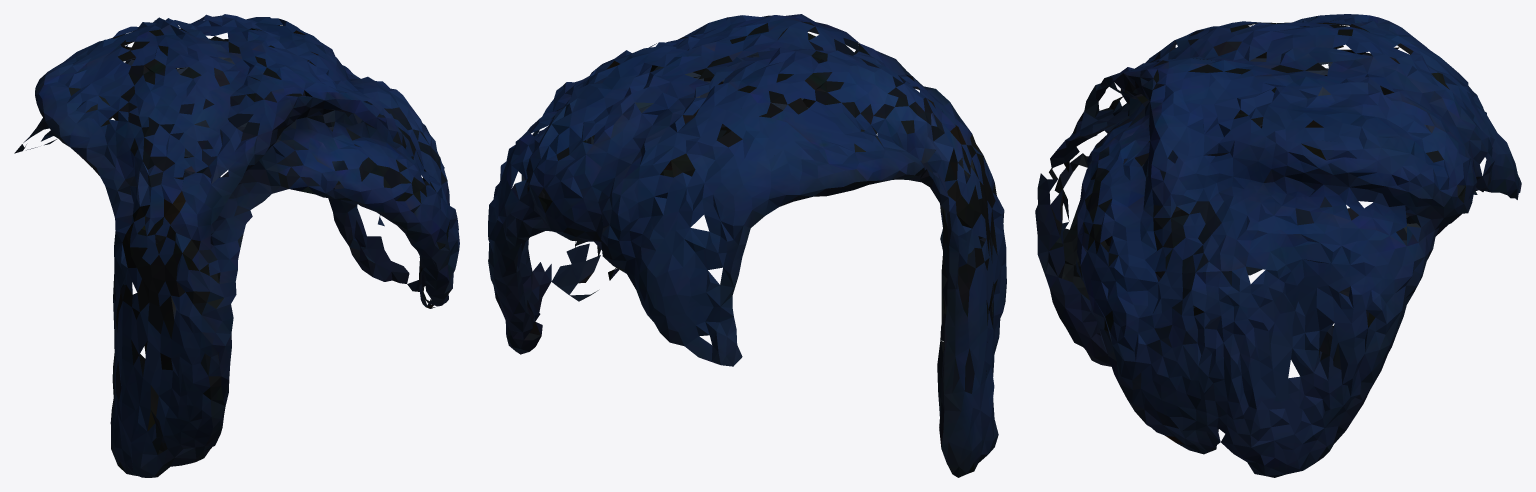
File: hairstyle_028.glb
The picture shows the model from 3 angles, left to right: view 1: azimuth 30°, elevation 25°; view 2: azimuth 150°, elevation 25°; view 3: azimuth 270°, elevation 25°; orthographic projection. The views are drawn at different scales.
Parts seen in each view (by area): view 1: geometry_0_028; view 2: geometry_0_028; view 3: geometry_0_028.
Part boxes in pixels (x1=…): geometry_0_028: x1=14, y1=14, x2=459, y2=477; geometry_0_028: x1=488, y1=14, x2=1006, y2=477; geometry_0_028: x1=1035, y1=14, x2=1521, y2=477.
Size of the model in its own units: 1.43 by 1.37 by 1.5.
1 material, 1 textured.
